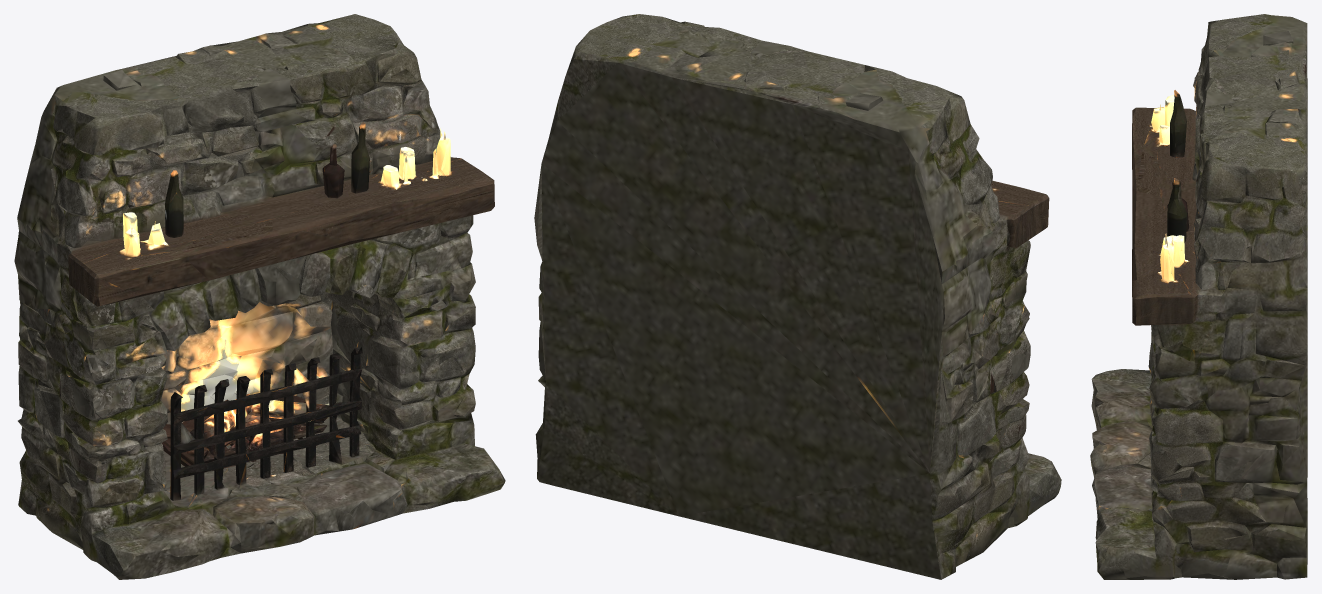
3 renders of one model, left to right at view 1: azimuth 30°, elevation 25°; view 2: azimuth 150°, elevation 25°; view 3: azimuth 270°, elevation 25°, orthographic. The views are drawn at different scales.
Visible parts, largest first — view 1: Mesh_0; view 2: Mesh_0; view 3: Mesh_0.
Boxes of the visible parts, <box> form: Mesh_0: <box>14,14,505,579</box>; Mesh_0: <box>534,14,1061,579</box>; Mesh_0: <box>1090,14,1307,579</box>.
Size of the model in its own units: 1.9 by 1.9 by 0.9191.
1 material, 1 textured.
